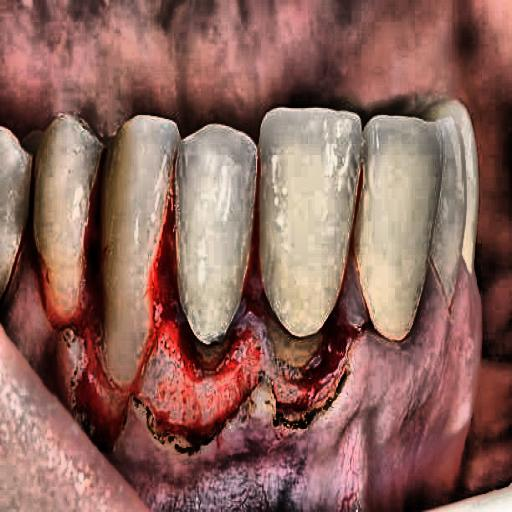Gingivitis: (2, 218, 491, 473)
